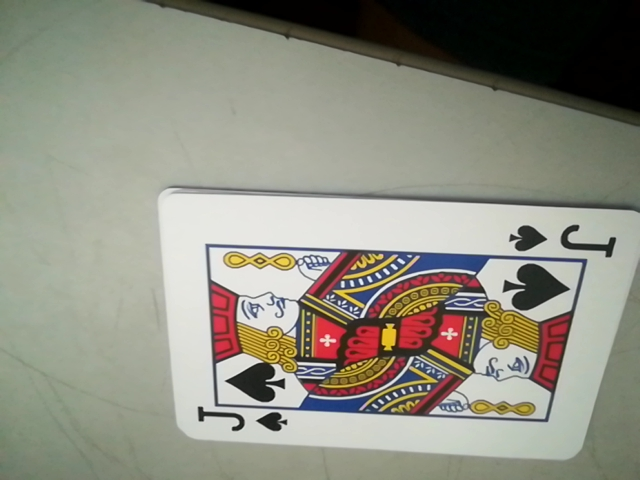ht j: (187, 401, 294, 441)
